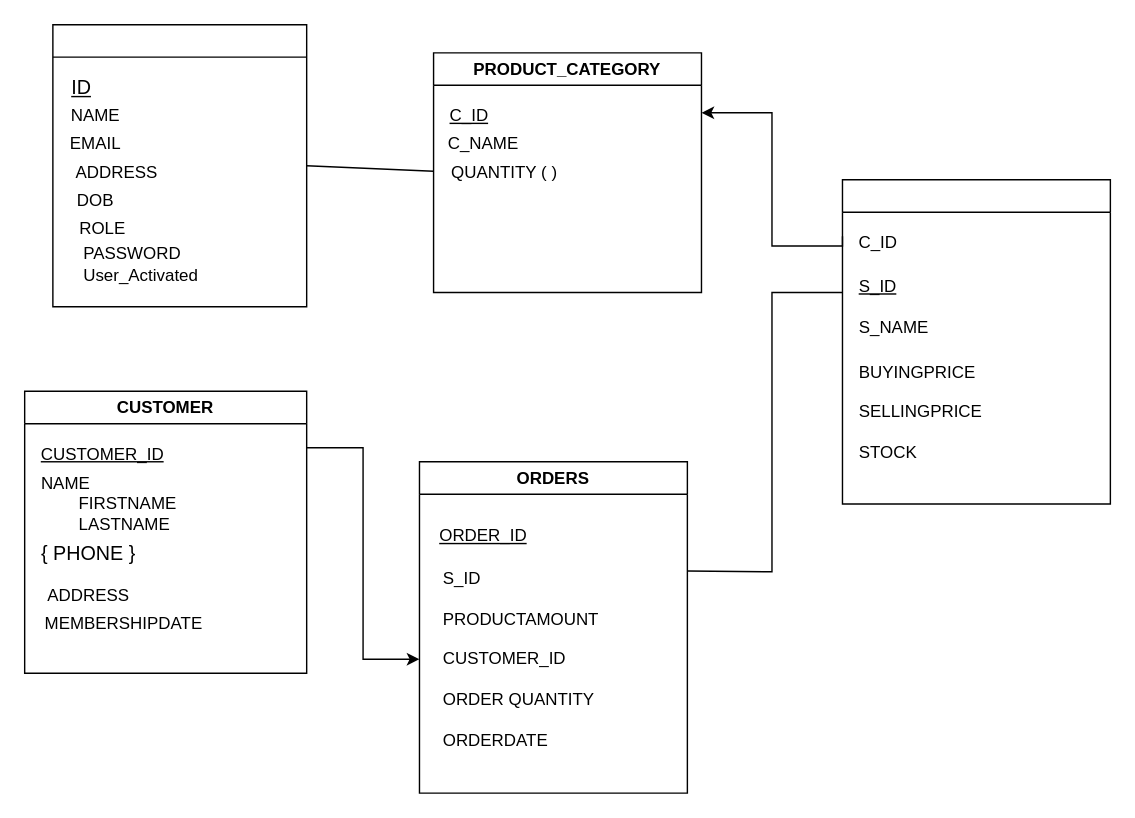
This 1135x818 diagram has some shape labels left out. The box of each missing label's shape, as (x1, y1, x2, y2) in pixels:
INVENTORY_USER: (51, 23, 307, 307)
SUBCATEGORY: (841, 178, 1110, 504)
